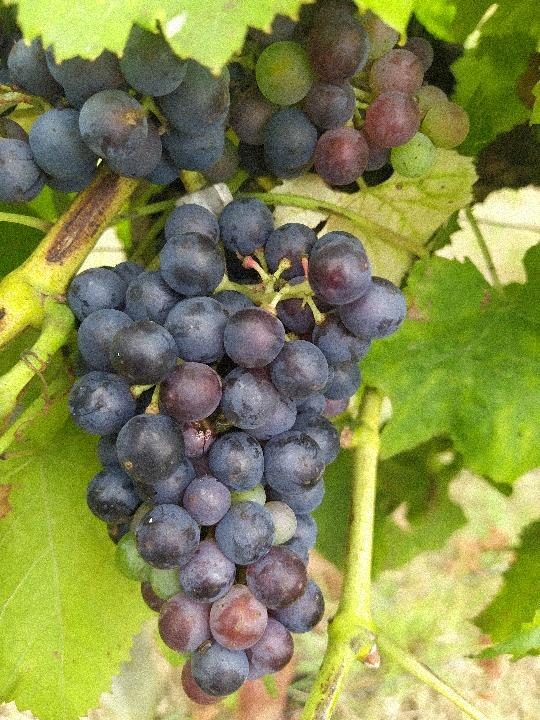grape: (69, 201, 410, 710)
